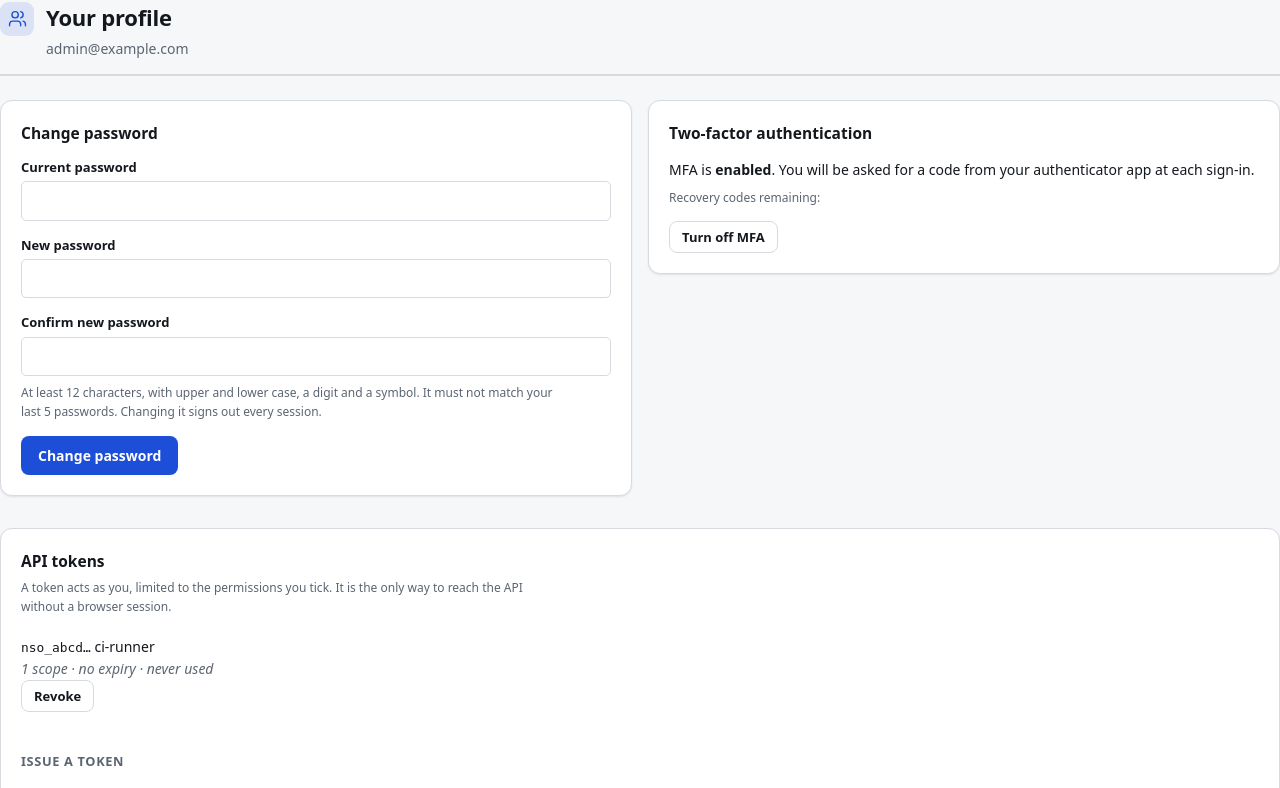
Test: ProfilePage › turning MFA off › will not submit with only one of the two
Click the button "Turn off MFA". click: (723, 237)
box: [669, 221, 778, 253]
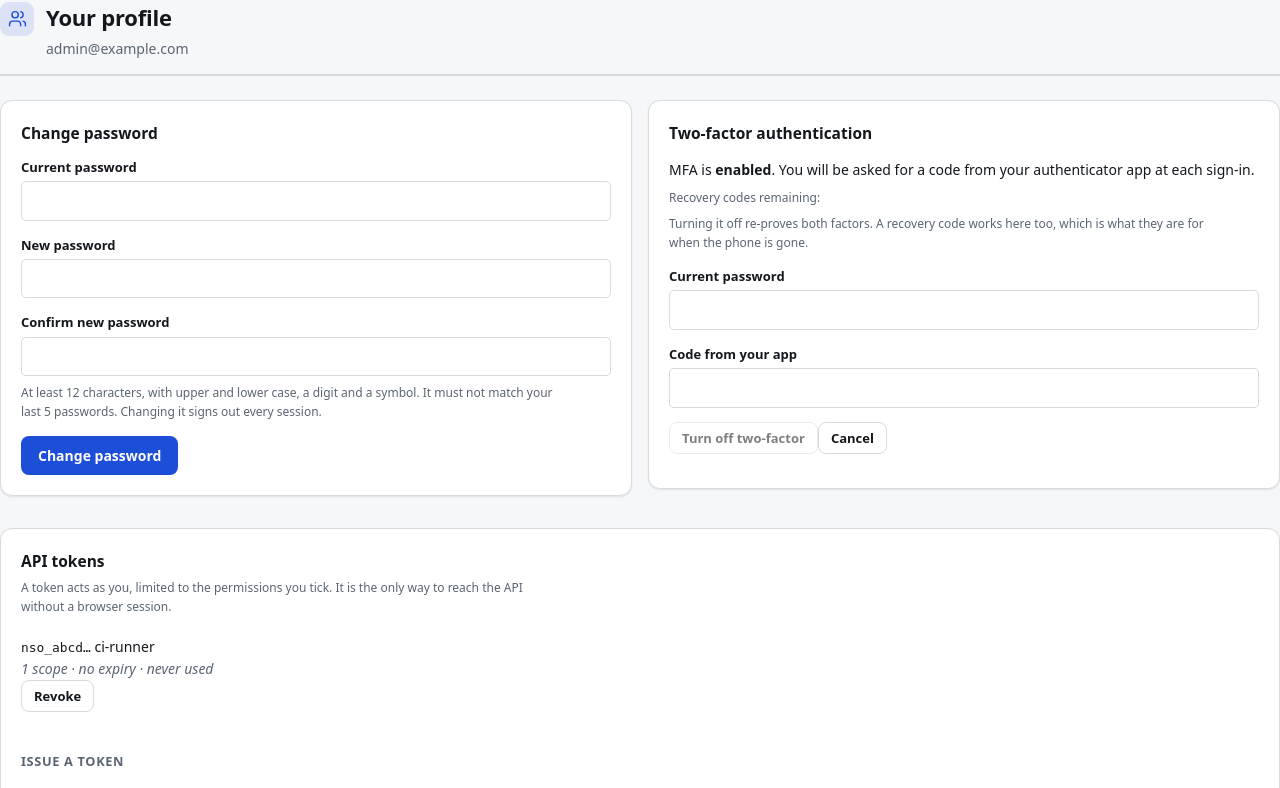
Now the button "Turn off two-factor" is disabled, box [669, 422, 818, 454]
Type "Correct-Horse-9!" into the password field labelled "Current password" below "Recovery codes remaining:". click: (964, 310)
box: [669, 290, 1259, 330]
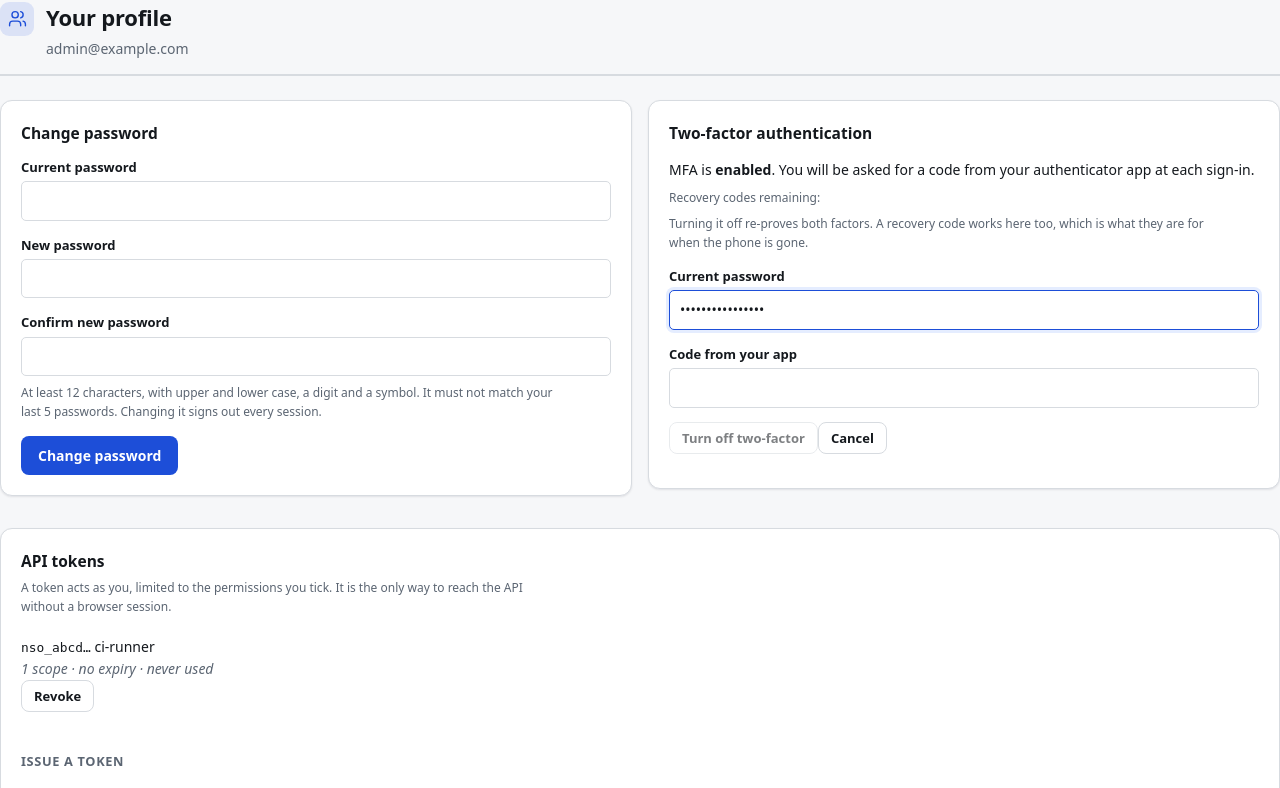
Now the button "Turn off two-factor" is disabled, box [669, 422, 818, 454]
Type "123456" into the field labelled "Code from your app". click: (964, 388)
box: [669, 368, 1259, 408]
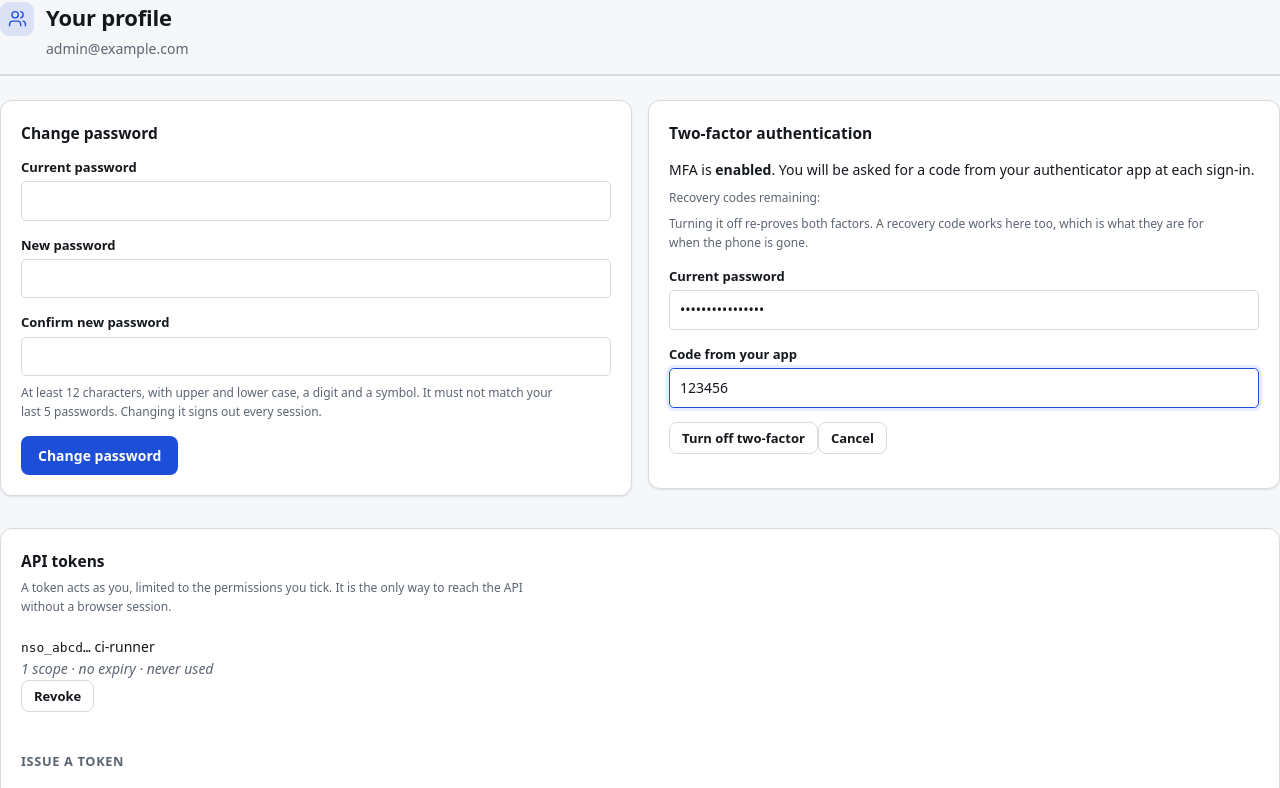
Now the button "Turn off two-factor" is enabled, box [669, 422, 818, 454]
